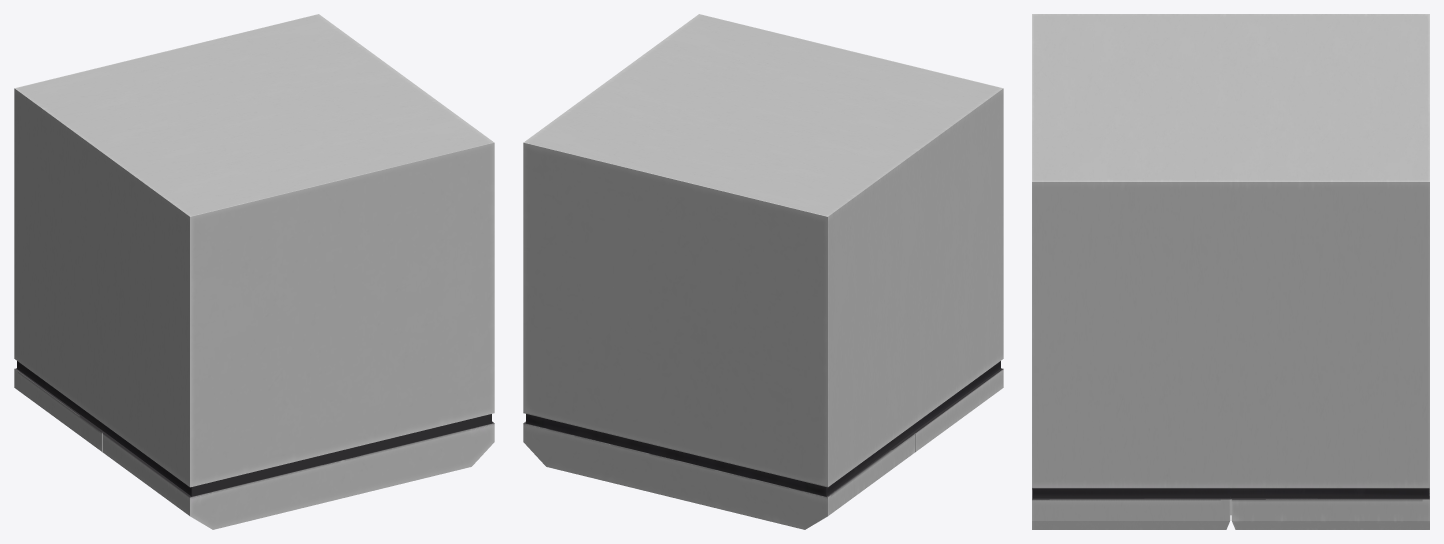
The model's file is fridge.obj.
The picture shows the model from 3 angles, left to right: view 1: azimuth 30°, elevation 25°; view 2: azimuth 150°, elevation 25°; view 3: azimuth 270°, elevation 25°; orthographic projection. The views are drawn at different scales.
Parts seen in each view (by area): view 1: fridge.obj; view 2: fridge.obj; view 3: fridge.obj.
Boxes of the visible parts, x1,y1,x2,y2 form: fridge.obj: (14,14,494,529); fridge.obj: (523,14,1003,529); fridge.obj: (1032,14,1429,529).
Size of the model in its own units: 1 by 1 by 1.
Materials: 1 (1 with a texture image).
